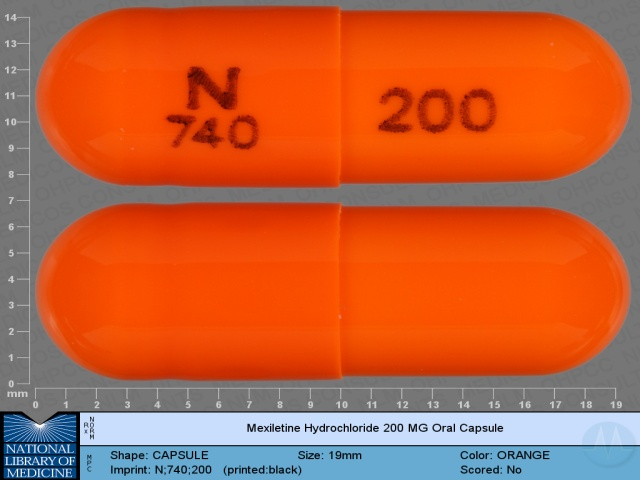0: (454, 84, 499, 136), (417, 84, 454, 135), (227, 111, 261, 154)
2: (376, 84, 414, 138)
4: (196, 114, 225, 150)
7: (165, 112, 195, 151)
N: (182, 62, 243, 112)
capsule: (37, 4, 635, 194), (35, 198, 637, 385)
